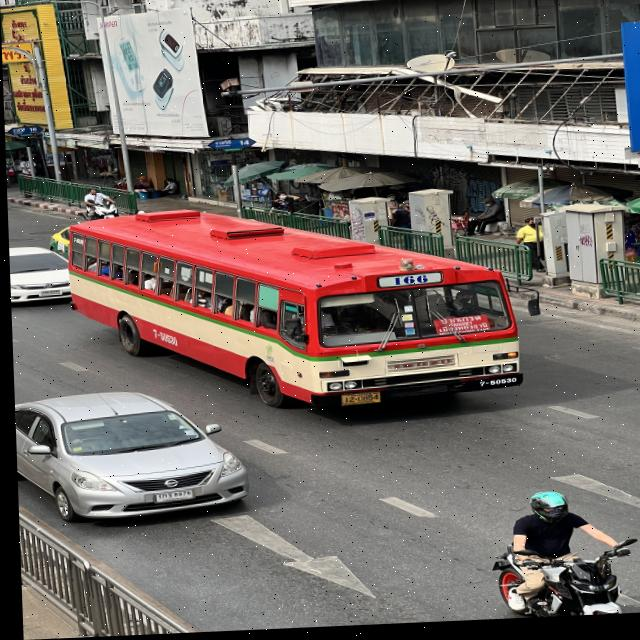BMTA-bus: (51, 211, 519, 412)
Bus Line Number: (385, 276, 433, 291)
Bus Side Number: (470, 381, 516, 393)
Destination Sign: (432, 322, 486, 340)
